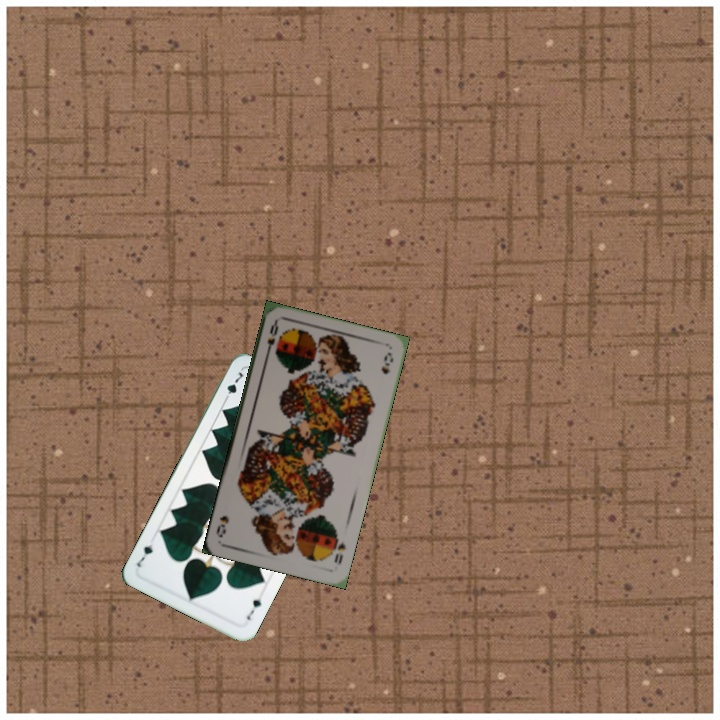G7: (220, 367, 247, 405), (242, 594, 264, 623)
SO: (262, 318, 281, 358), (330, 534, 349, 567)
